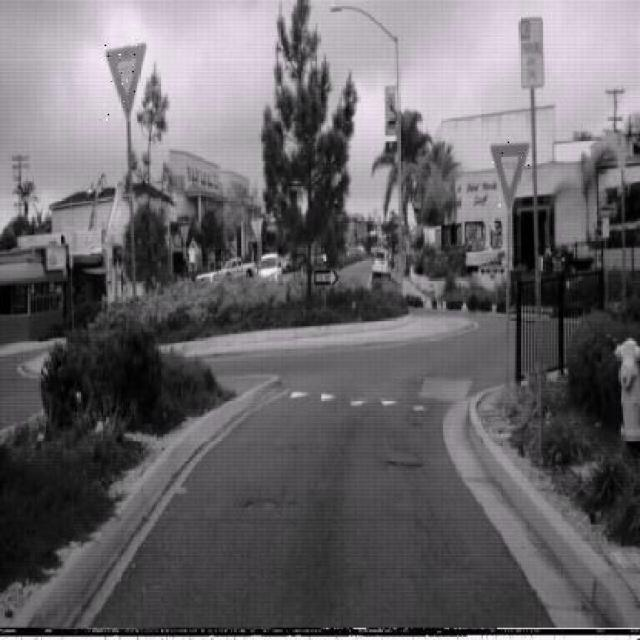yield: (103, 40, 147, 121), (490, 142, 530, 212)
